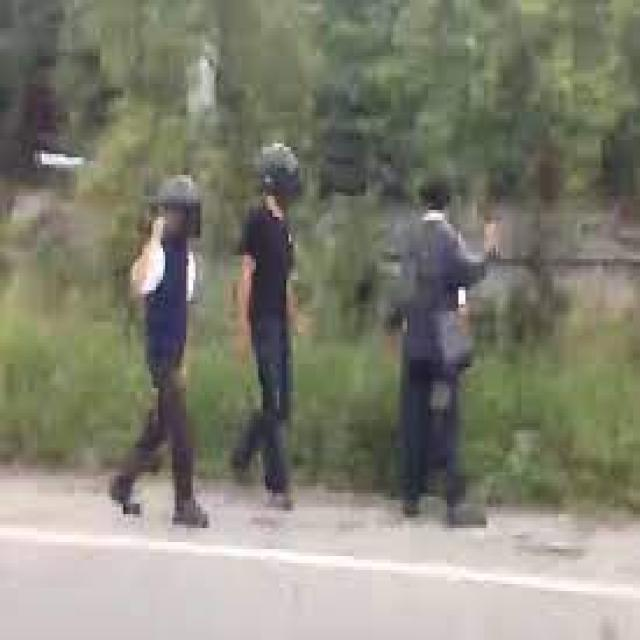helmet: (256, 140, 312, 218), (155, 168, 205, 255)
